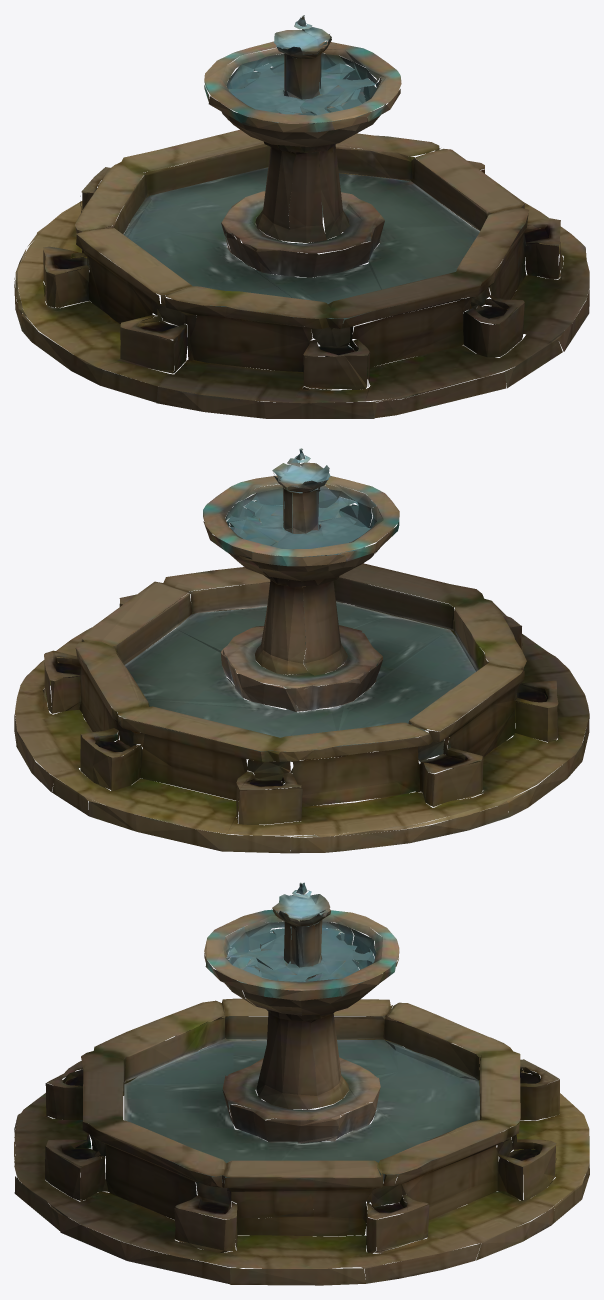
The model's file is kit_fontana.glb.
The picture shows the model from 3 angles, top to bottom: view 1: azimuth 30°, elevation 25°; view 2: azimuth 150°, elevation 25°; view 3: azimuth 270°, elevation 25°; orthographic projection.
Parts seen in each view (by area): view 1: _leggero; view 2: _leggero; view 3: _leggero.
Boxes of the visible parts, x1,y1,x2,y2 form: _leggero: (14,15,589,418); _leggero: (14,448,589,853); _leggero: (14,882,589,1285).
Size of the model in its own units: 0.9987 by 0.5416 by 1.
Materials: 1 (1 with a texture image).
